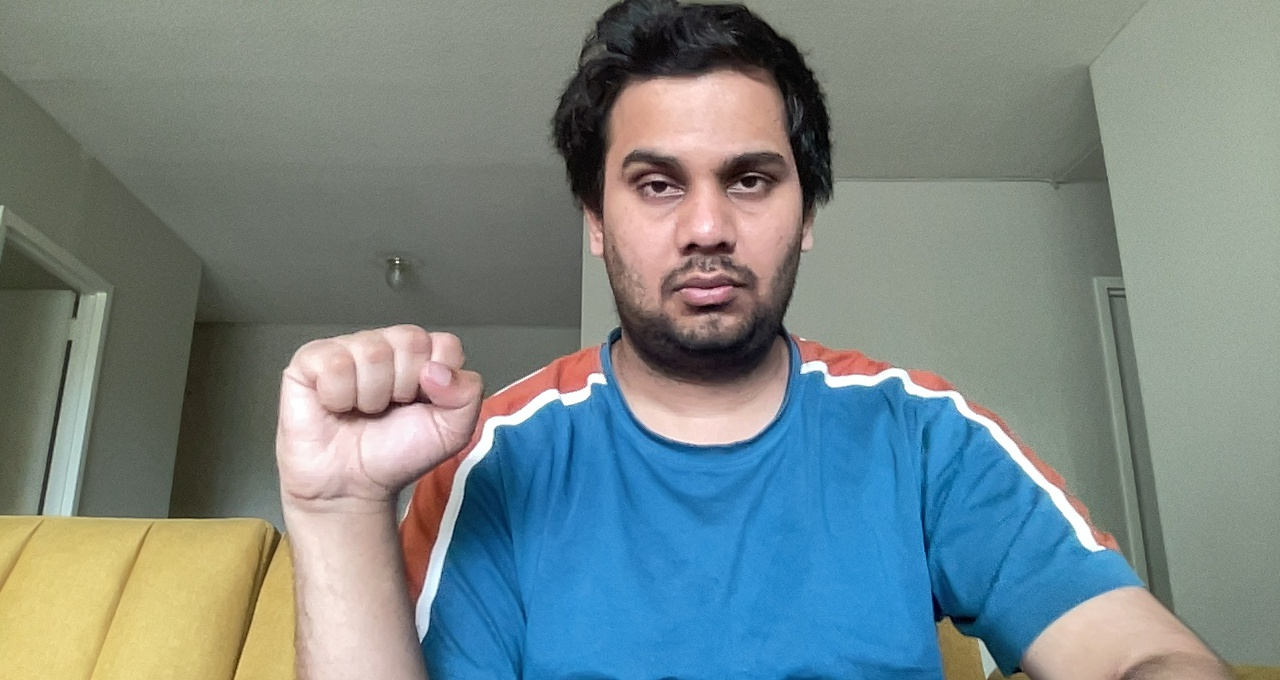closedfist: (264, 321, 489, 519)
